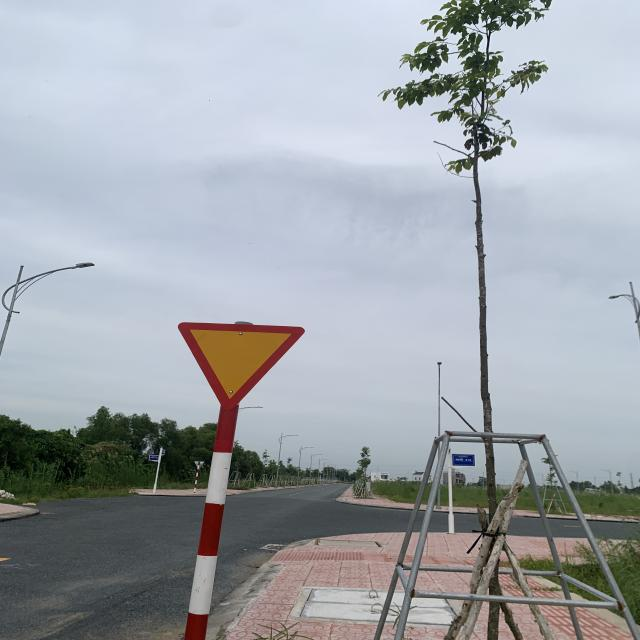Gioi_Han_Toc_Do_25: (177, 322, 306, 411)
